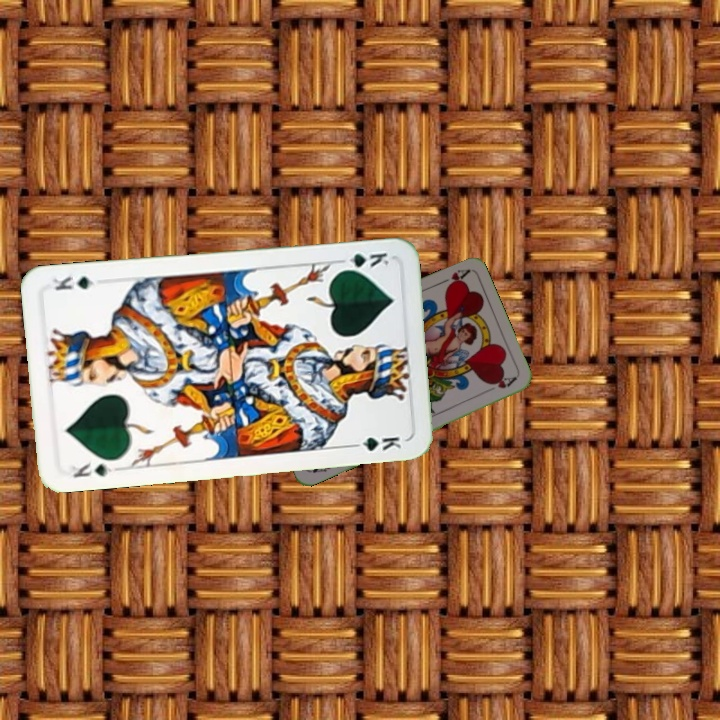GK: (334, 248, 391, 274), (68, 459, 120, 480)
HA: (432, 265, 471, 291)
